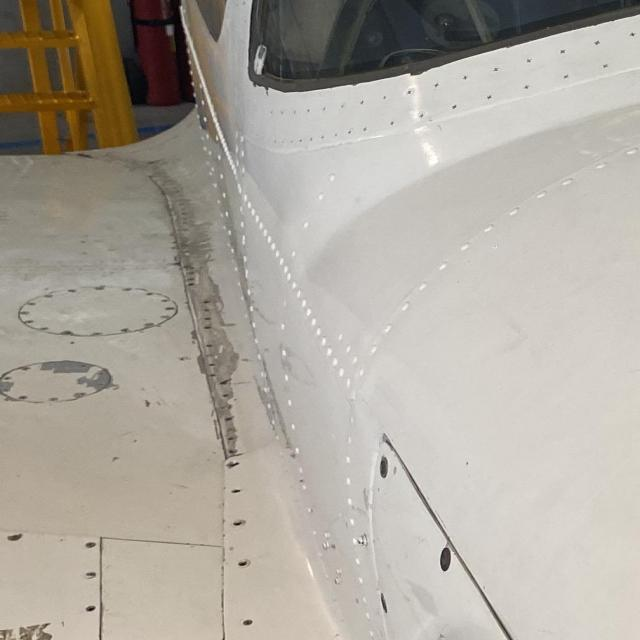Missing-head: (241, 616, 254, 629), (236, 558, 251, 569), (231, 519, 246, 528), (84, 603, 96, 614), (230, 488, 244, 495), (90, 639, 94, 640)
Paint-off: (78, 364, 113, 396), (40, 358, 98, 375)
Scratch: (141, 179, 255, 460)
